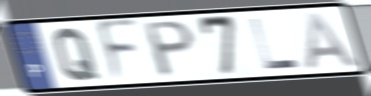7: (194, 14, 240, 79)
A: (304, 11, 364, 72)
F: (93, 17, 141, 87)
L: (247, 16, 303, 72)
P: (143, 18, 197, 81)
Q: (51, 26, 102, 83)
